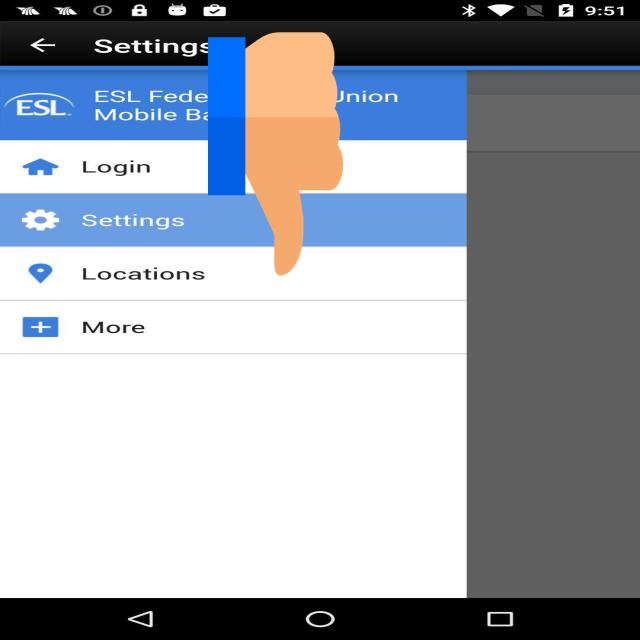obstruction: (208, 26, 343, 282)
